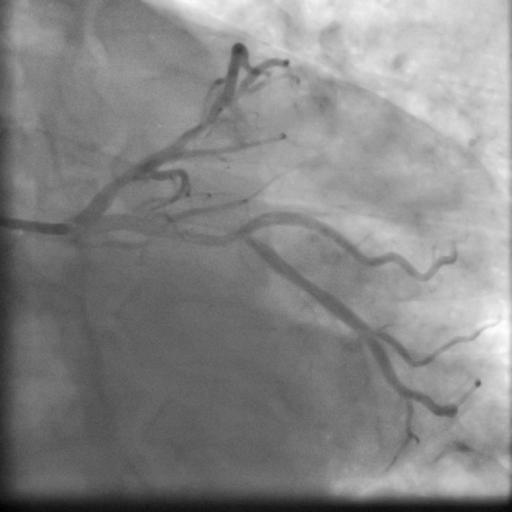Stenosis: (104, 170, 149, 195)
